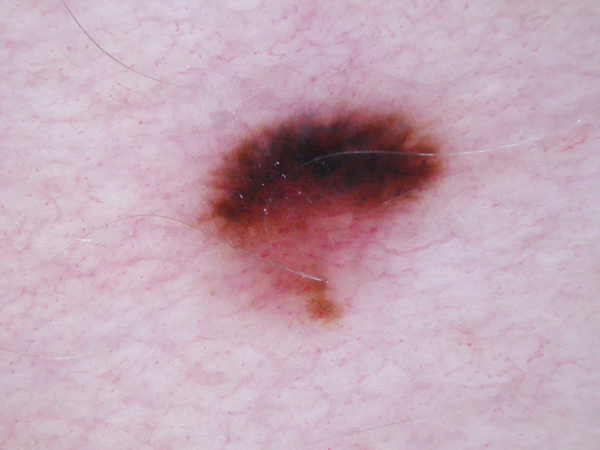Detected Lesion: (206, 98, 453, 325)
